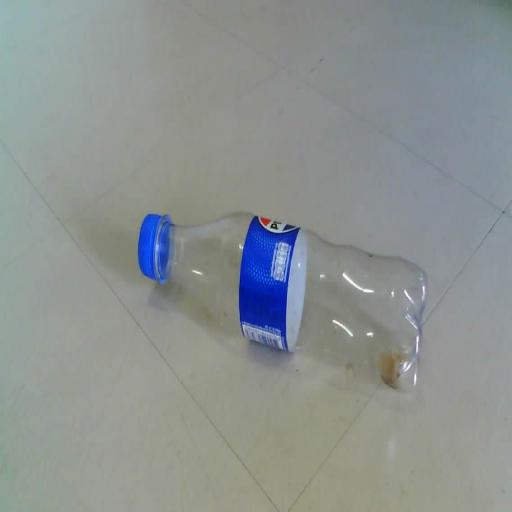bottle: (124, 187, 444, 414)
